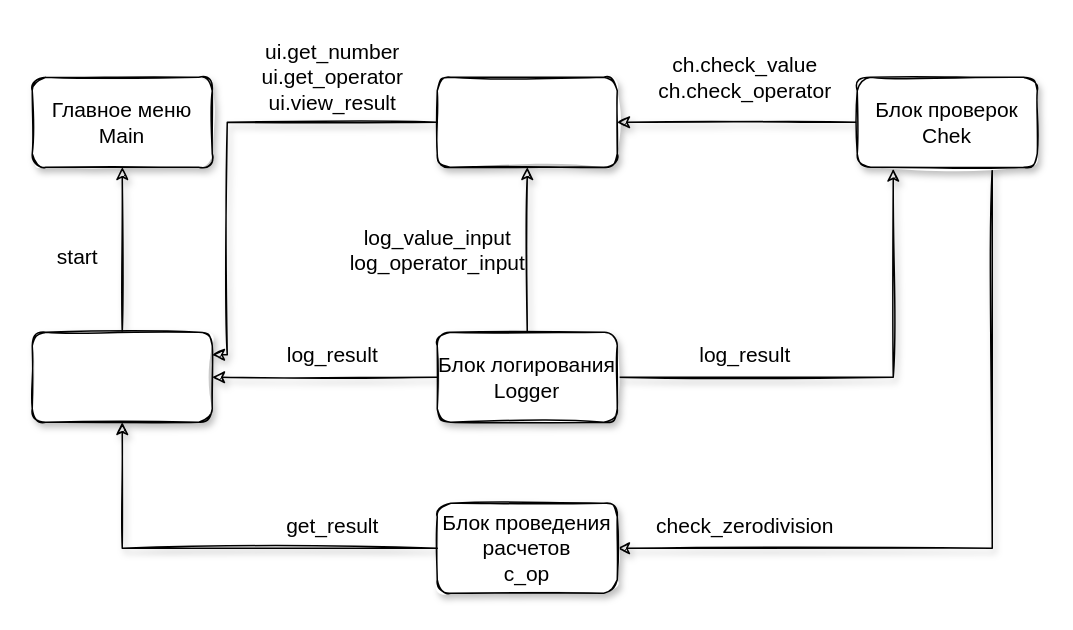
Image size: 1073x630. Some labels were removed from this diagram. The shapes that lost their labels are listed below. From the top down, each one's centre as x and y in pixels, then its label:
At (528,124): "Пользовательский интерфейс UI".
At (123,379): "Главный контроллер controller".
